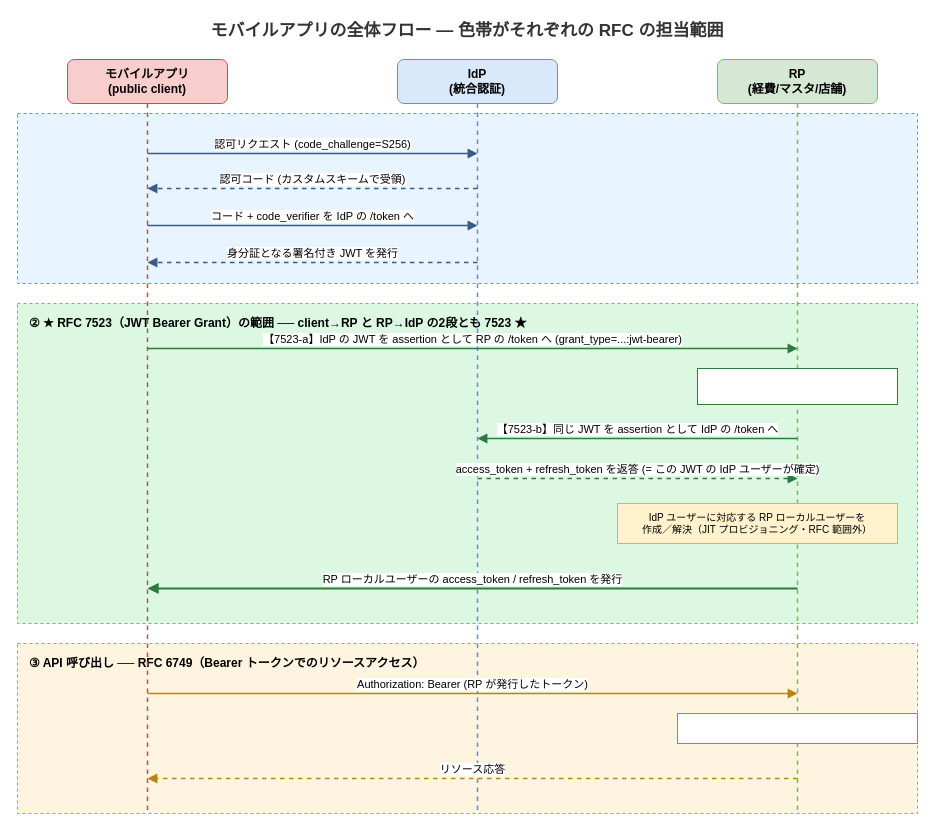
This 935x832 diagram has some shape labels left out. Here are the shapes that lost their labels. From the top down, the centre of each, then its label:
At (467,198): "① ログイン ── RFC 6749（Authorization Code）＋ RFC 7636（PKCE）".
At (797,386): "JWT の署名を検証 (IdP の公開鍵 / JWKS)".
At (797,728): "自分が発行したトークンを検証（ローカル）".
